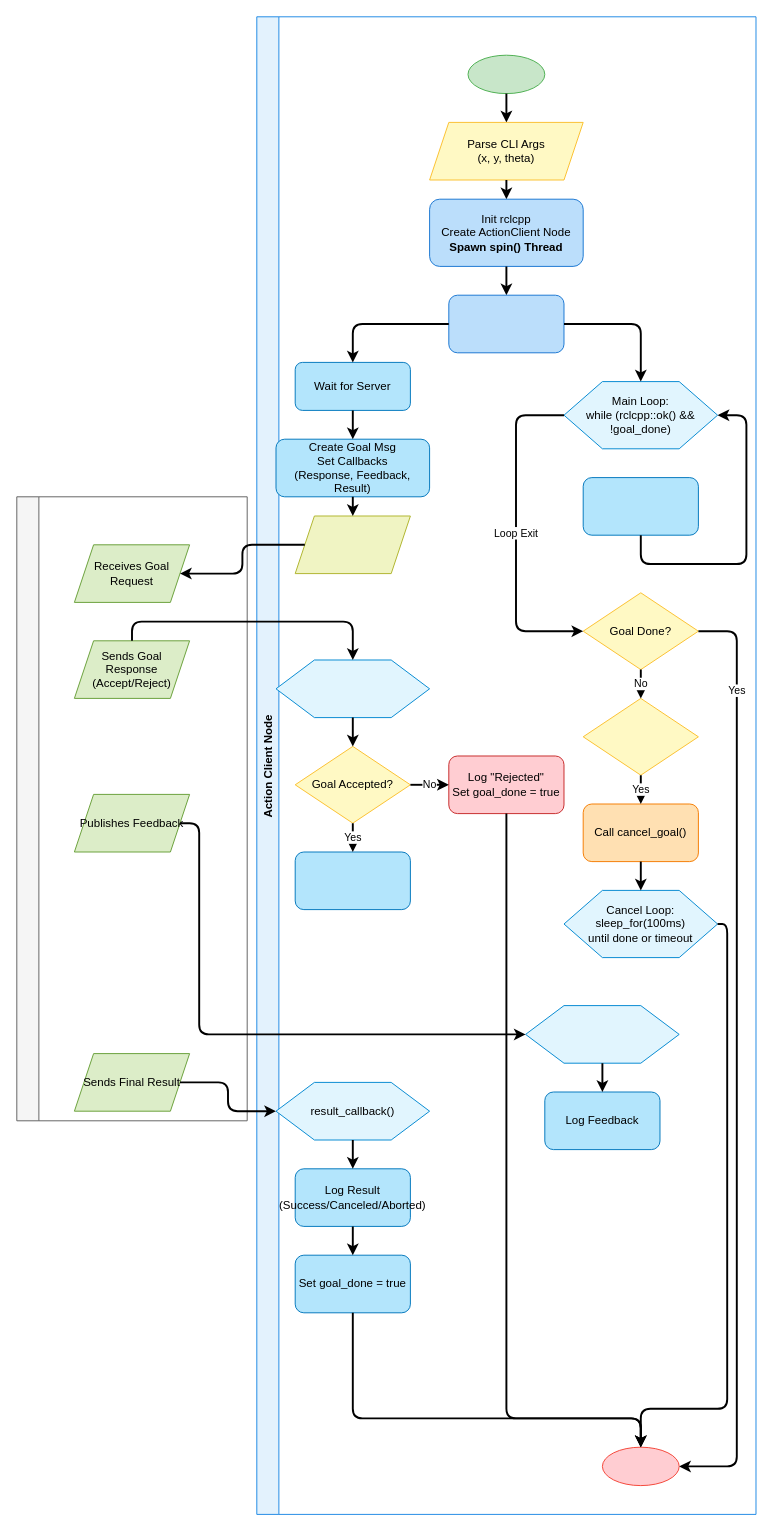
Some shapes in this 773 by 1531 pixel diagram are drawn without their labels. Here are the shapes that lost their labels. From the top down, the box of each, then its label:
(467, 54, 545, 94): Start
(448, 294, 564, 353): Call send_goal()
(582, 477, 698, 535): sleep_for(100ms)
(294, 515, 410, 574): async_send_goal()
(275, 659, 430, 718): goal_response_callback()
(582, 697, 698, 775): User Interrupted? (Ctrl+C)
(16, 496, 247, 1121): Action Server Node
(294, 851, 410, 910): Log "Accepted" Store goal_handle
(525, 1005, 679, 1063): feedback_callback()
(601, 1446, 679, 1486): Shutdown & Join Thread
